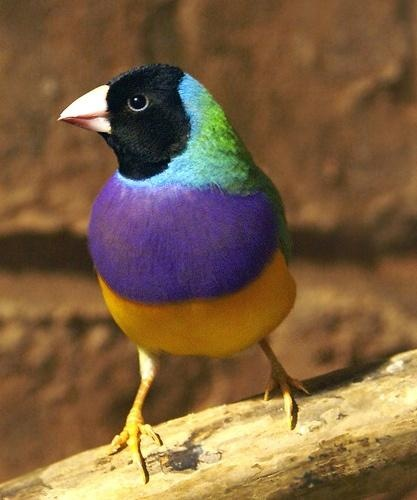bird: (57, 63, 311, 485)
